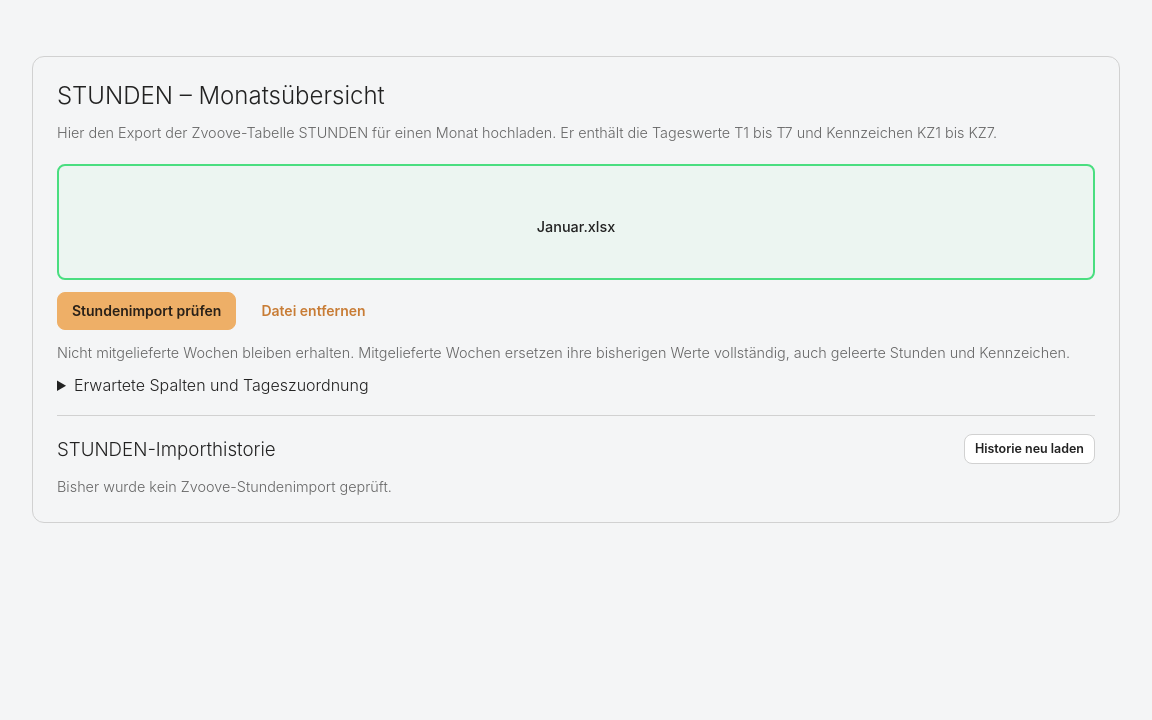
Test: Zvoove hours import › allows warnings, activates the checked revision and refreshes history
Click the button "Stundenimport prüfen" at (147, 311), box [57,292,236,330]
(page scrolled)
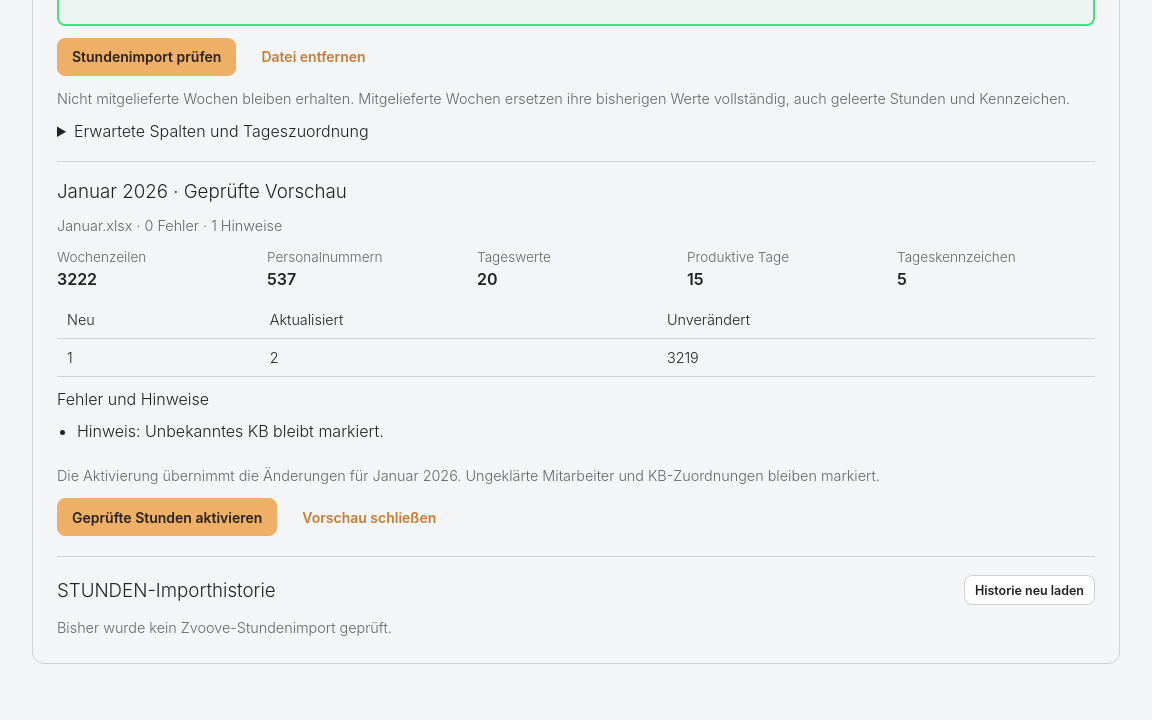
Result: the button "Geprüfte Stunden aktivieren" is enabled
Click the button "Geprüfte Stunden aktivieren" at (167, 517), box [57,498,277,536]
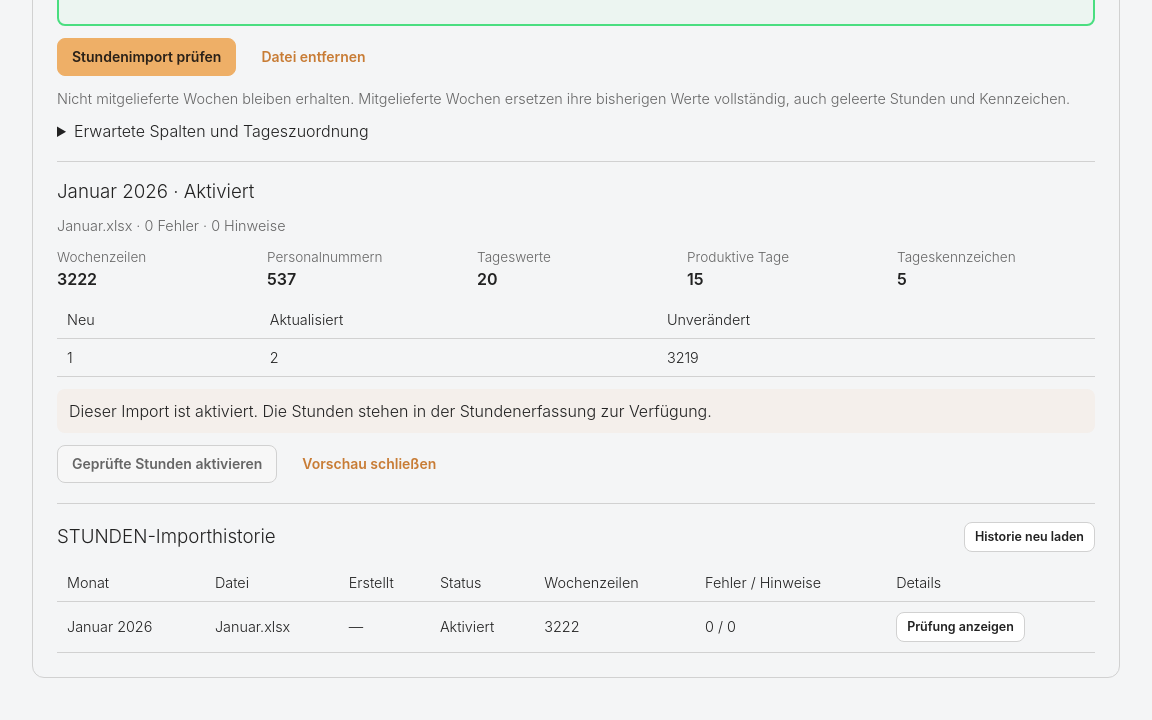
Result: the text "Dieser Import ist aktiviert" is shown at [69,401,712,421]
Result: the button "Geprüfte Stunden aktivieren" is disabled at [57,445,277,483]
Result: the table that starts with "Januar 2026" is shown at [67,618,152,635]
